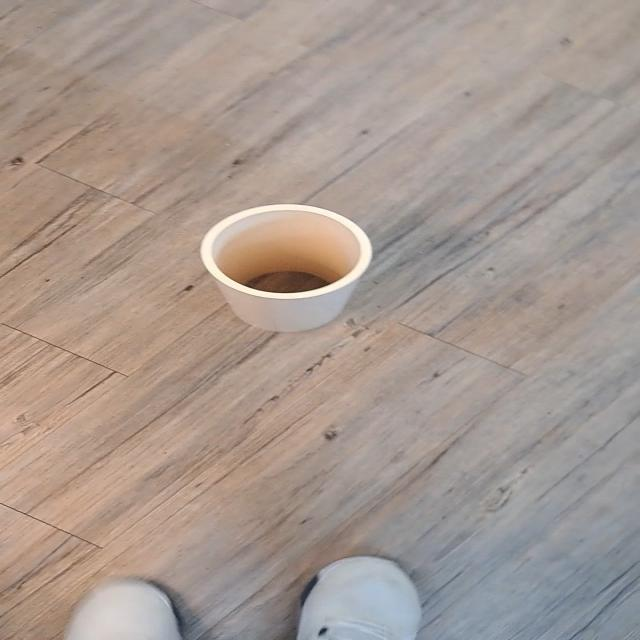CORAL: (172, 203, 430, 339)
